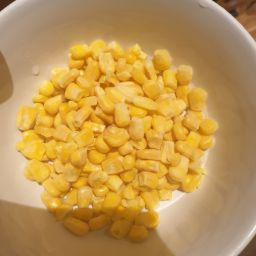Corn Kernel: (100, 33, 227, 224), (72, 34, 171, 243), (10, 65, 98, 255)
